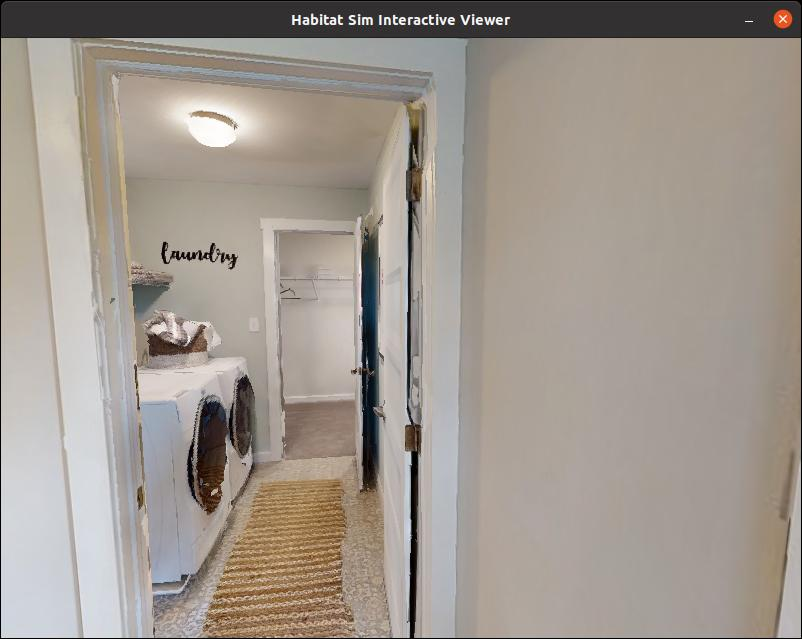door-frame: (23, 33, 470, 639), (247, 209, 374, 460)
